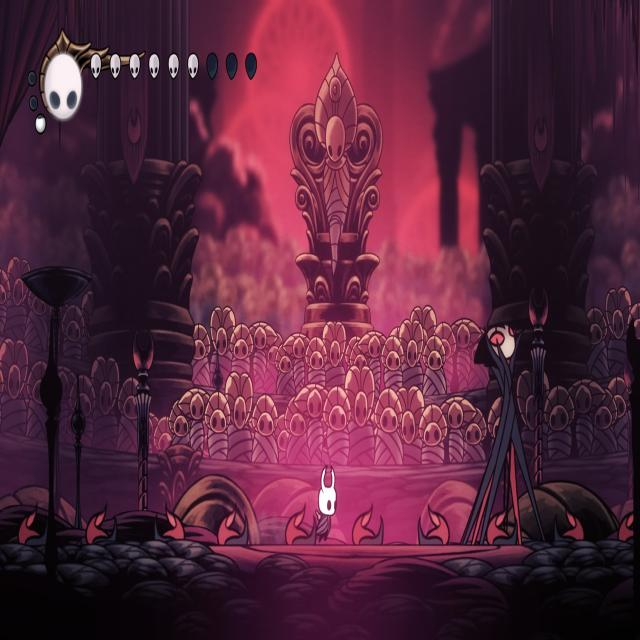Grimm: (460, 316, 548, 542)
Player: (312, 460, 338, 548)
Spikes: (352, 499, 383, 546), (418, 499, 448, 546), (555, 507, 583, 541)
